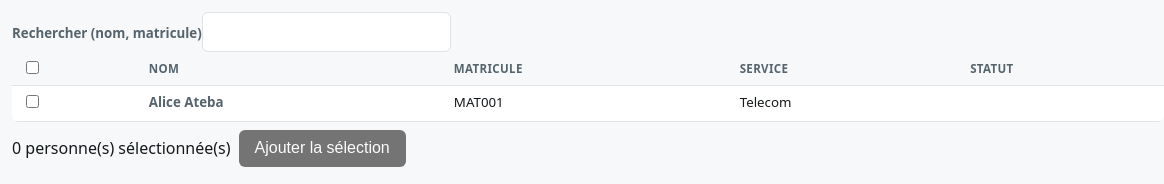
SelectionPersonnesABord › selection individuelle : coche une personne, met a jour le compteur, active le bouton d'ajout
The width and height of the screenshot is (1164, 184).
Check: the text "Alice Ateba" is shown, box top-left (149, 93), bottom-right (224, 111)
Check: the button "Ajouter la sélection" is disabled, box top-left (239, 130), bottom-right (406, 167)
What coordinates should you click on to do the following:
click the checkbox named "Sélectionner Alice Ateba"
I would click on:
 (32, 102)
Its box is top-left (26, 95), bottom-right (39, 108).
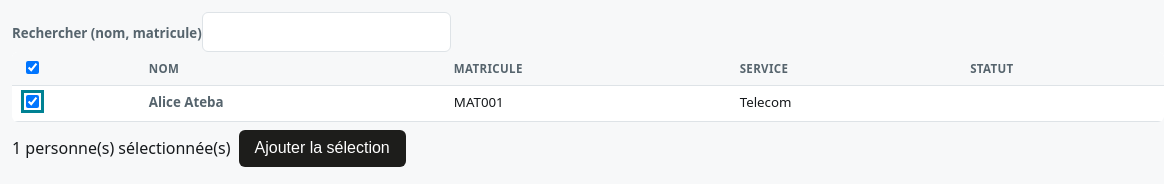
Check: the text "1 personne(s) sélectionnée(s)" is shown, box top-left (12, 136), bottom-right (231, 160)
Check: the button "Ajouter la sélection" is enabled, box top-left (239, 130), bottom-right (406, 167)
